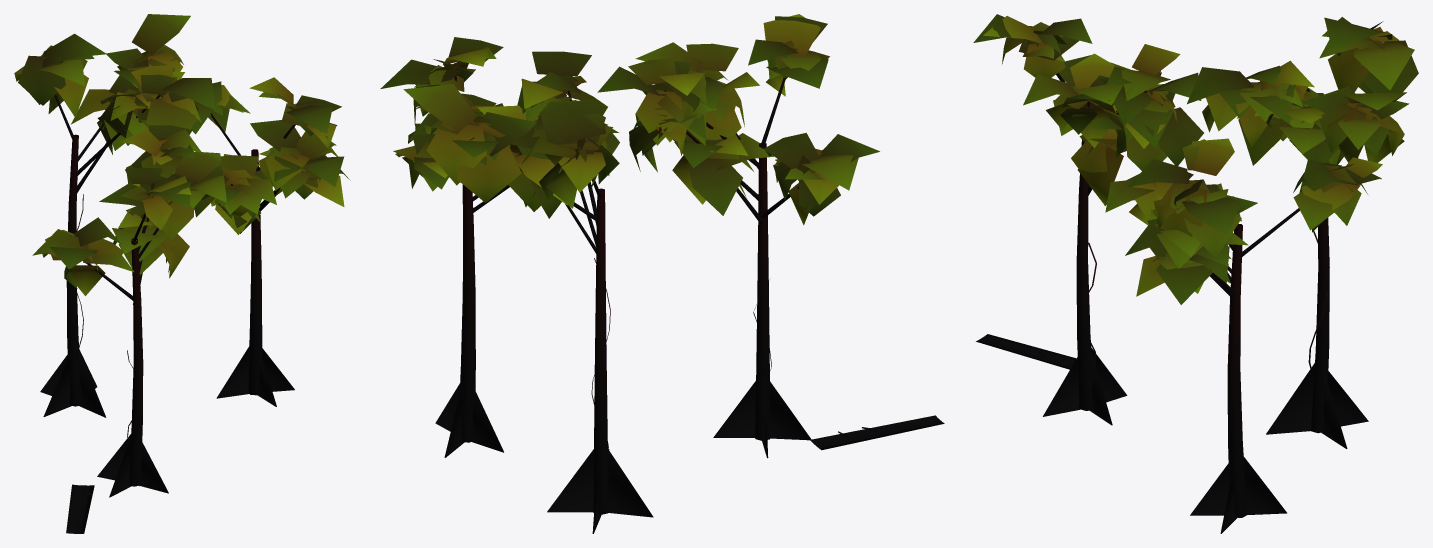
The model's file is patch_fern_floor_far.glb.
The picture shows the model from 3 angles, left to right: view 1: azimuth 30°, elevation 25°; view 2: azimuth 150°, elevation 25°; view 3: azimuth 270°, elevation 25°; orthographic projection. The views are drawn at different scales.
Parts seen in each view (by area): view 1: patch_fern_floor_far; view 2: patch_fern_floor_far; view 3: patch_fern_floor_far.
Boxes of the visible parts, <box> form: patch_fern_floor_far: <box>14,14,350,533</box>; patch_fern_floor_far: <box>380,14,944,533</box>; patch_fern_floor_far: <box>973,14,1418,533</box>.
Bounding box in the file's own units: 11.9 × 10.61 × 10.38.
Materials: 1 (1 with a texture image).
